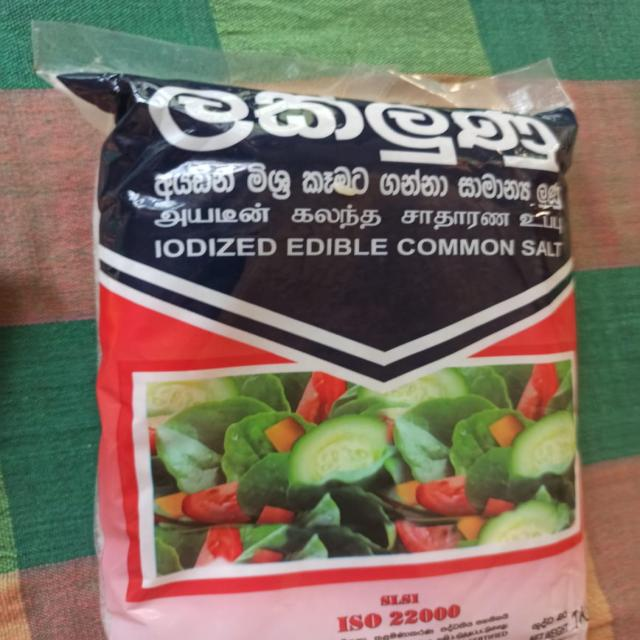Lak Lunu: (20, 7, 640, 640)
